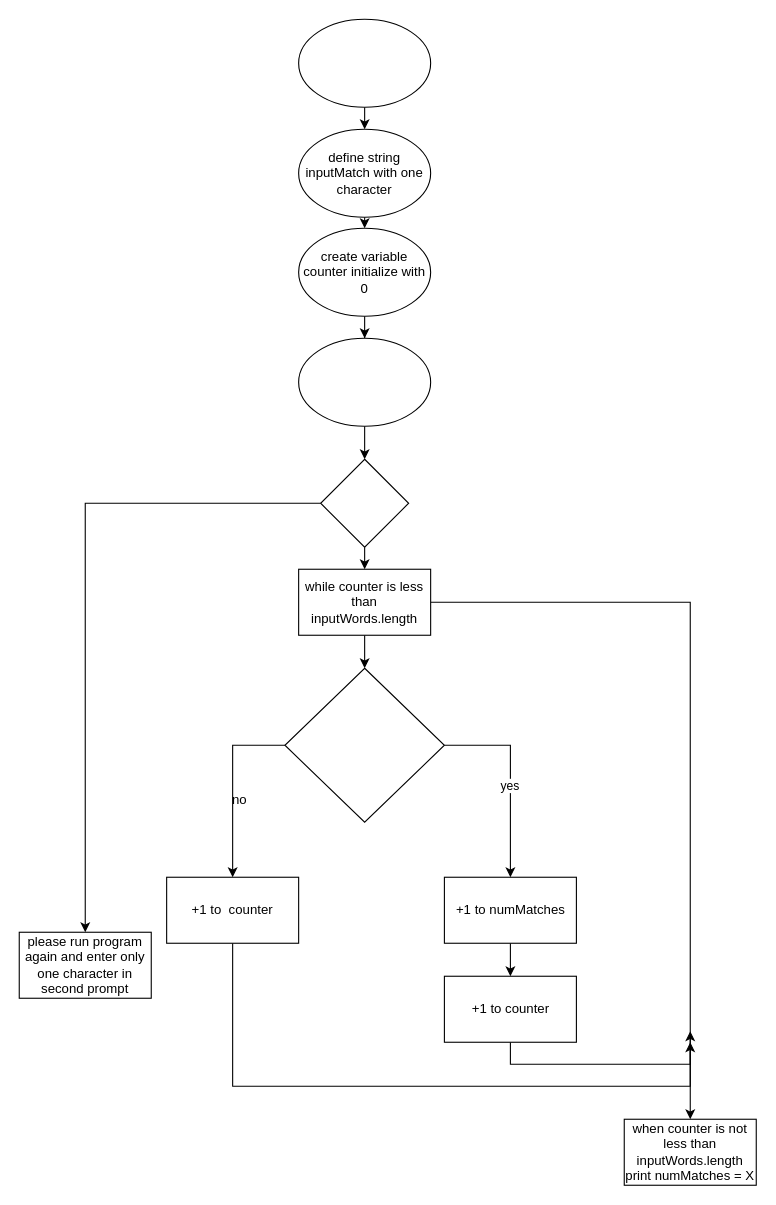
This 776x1205 diagram has some shape labels left out. Each missing label, with the centre of its shape:
"Check if character 1 of inputWords is inputMatch" belongs at [364,744].
"create variable numMatches and initialize with 0" belongs at [364,381].
"define string inputWords with multiple words" belongs at [364,62].
"if inputMatch == 1" belongs at [364,502].
